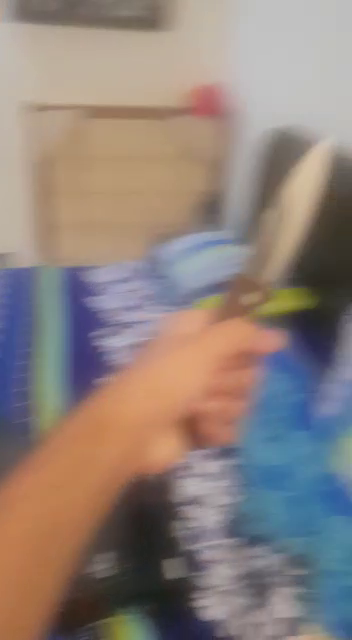knife: (150, 117, 352, 476)
